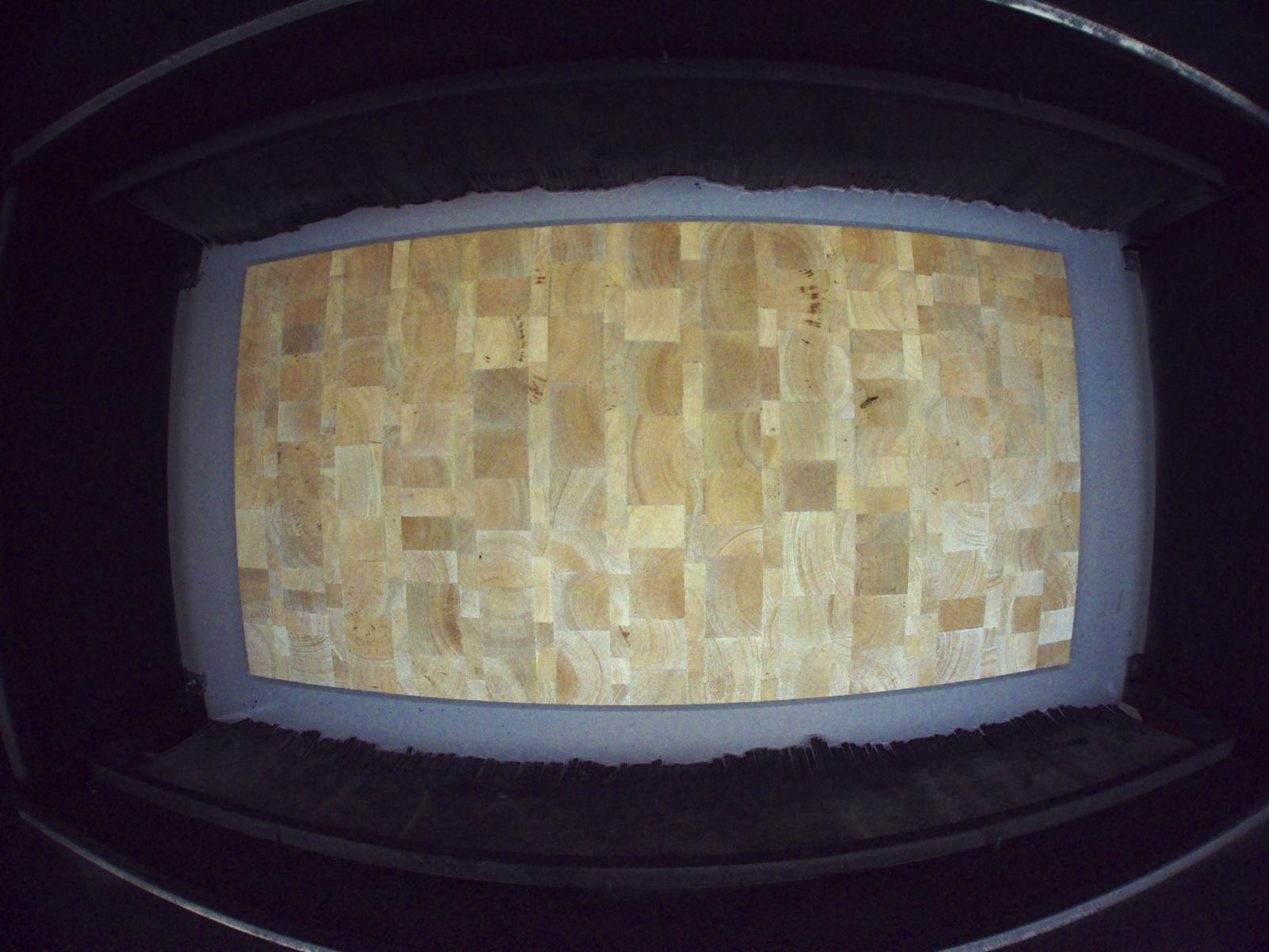sheck_ecuatoriano: (858, 377, 882, 413)
